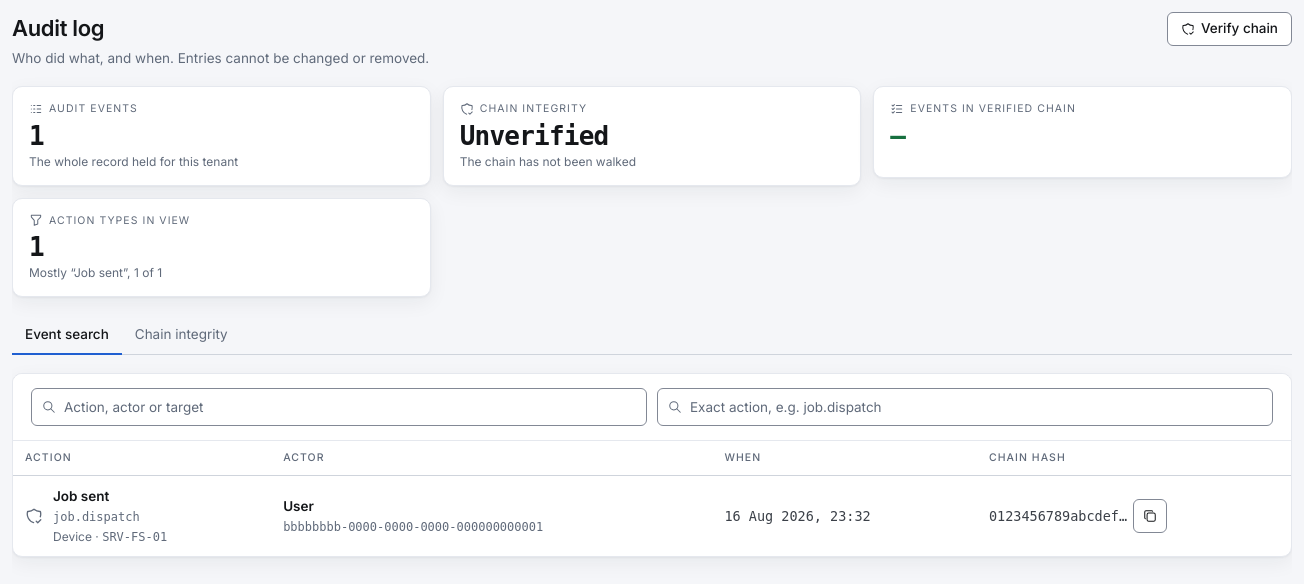
AuditPage › never says verified for a verification that did not come back
The width and height of the screenshot is (1304, 584).
Expected: the text "job.dispatch" is shown, x1=53 y1=510 x2=140 y2=524
Expected: the text "Unverified" is shown, x1=460 y1=121 x2=608 y2=151
Click the tab "Chain integrity" at coordinates (181, 335), box x1=122 y1=315 x2=241 y2=355
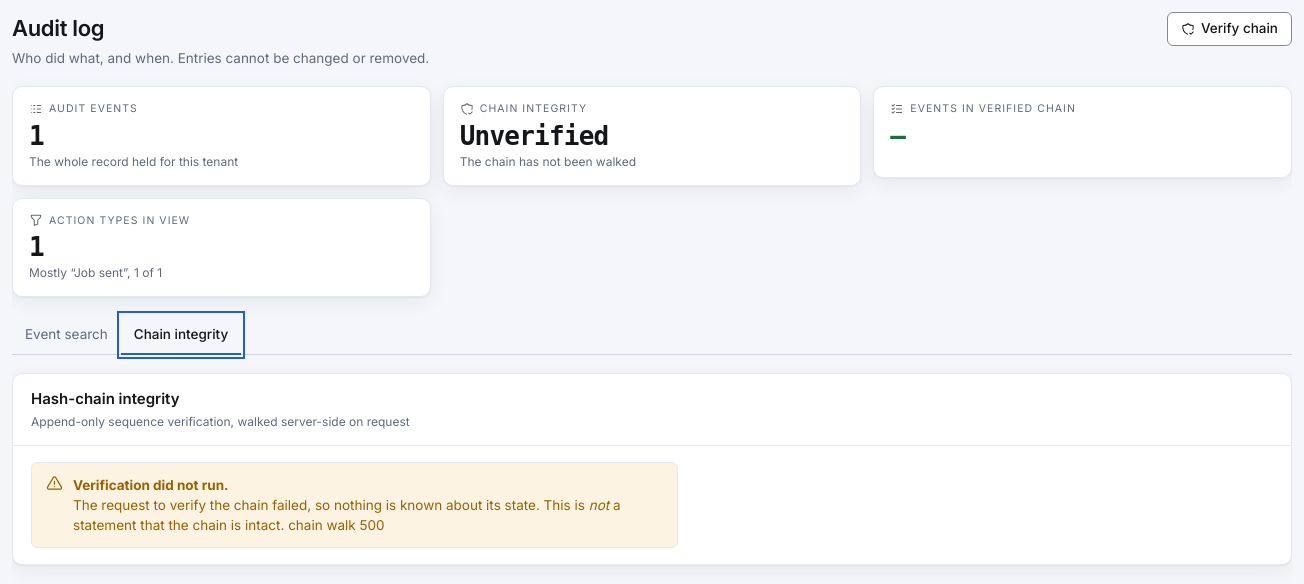
Now the message shows "did not run", box x1=73 y1=477 x2=229 y2=493
